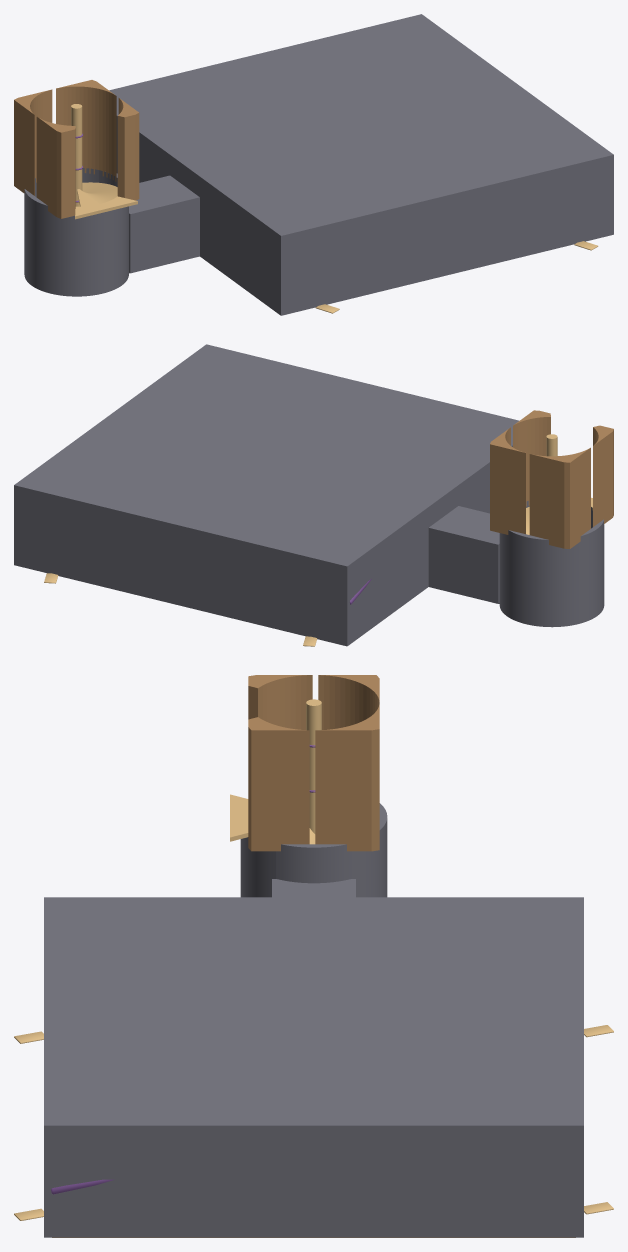
Rendered from ESC_GingerbreadVillage.fbx.
3 renders of one model, top to bottom at view 1: azimuth 30°, elevation 25°; view 2: azimuth 150°, elevation 25°; view 3: azimuth 270°, elevation 25°, orthographic. The views are drawn at different scales.
Parts seen in each view (by area): view 1: Body; view 2: Body; view 3: Body, Decor.
Boxes of the visible parts, x1,y1,x2,y2 form: Body: [14, 14, 613, 315]; Body: [14, 344, 613, 646]; Body: [44, 675, 583, 1237]; Decor: [14, 745, 613, 1220].
Bounding box in the file's own units: 60.33 × 20.32 × 45.79.
